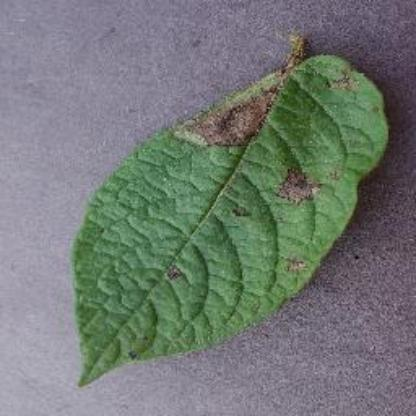Late-Blight: (58, 29, 396, 391)
